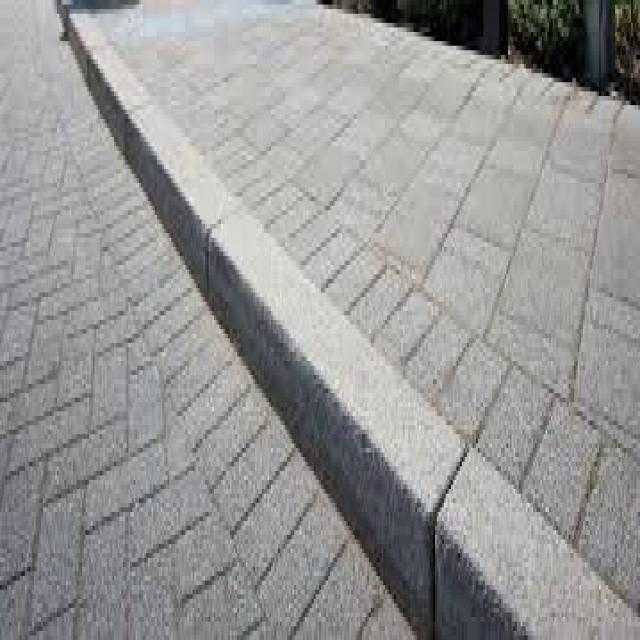curb: (205, 203, 460, 640), (122, 97, 235, 288)
